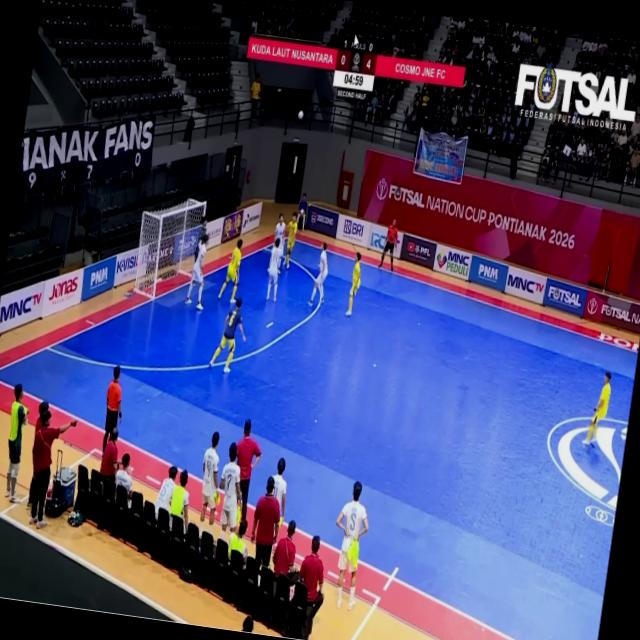keeper: (210, 298, 246, 373)
official: (30, 410, 76, 528), (237, 420, 262, 520), (252, 478, 279, 566), (299, 536, 323, 620), (272, 520, 298, 584), (379, 219, 398, 270)
players: (337, 482, 368, 610), (583, 372, 611, 445), (220, 443, 241, 538), (200, 432, 219, 526), (186, 233, 209, 310), (218, 240, 242, 303), (309, 243, 328, 306), (267, 238, 282, 302), (346, 253, 361, 316), (285, 212, 298, 269), (275, 214, 286, 248), (297, 194, 307, 231)
referee: (102, 366, 122, 454), (379, 219, 398, 270)
